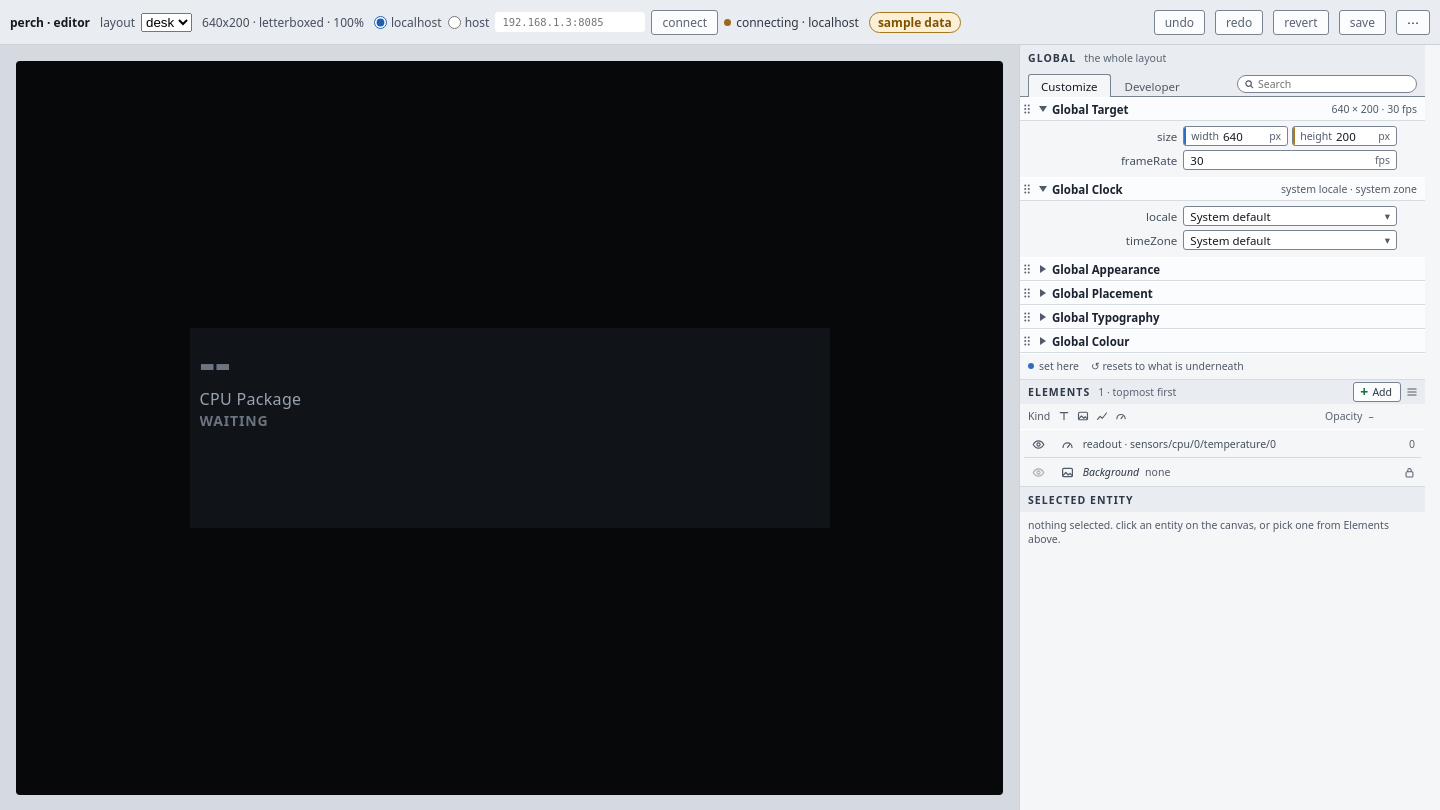
Scenario: the connection control › asks the relay for the typed host on Connect, then disables Connect once connected
Click the radio button labelled "host" at (454, 22), box [448,16,461,28]
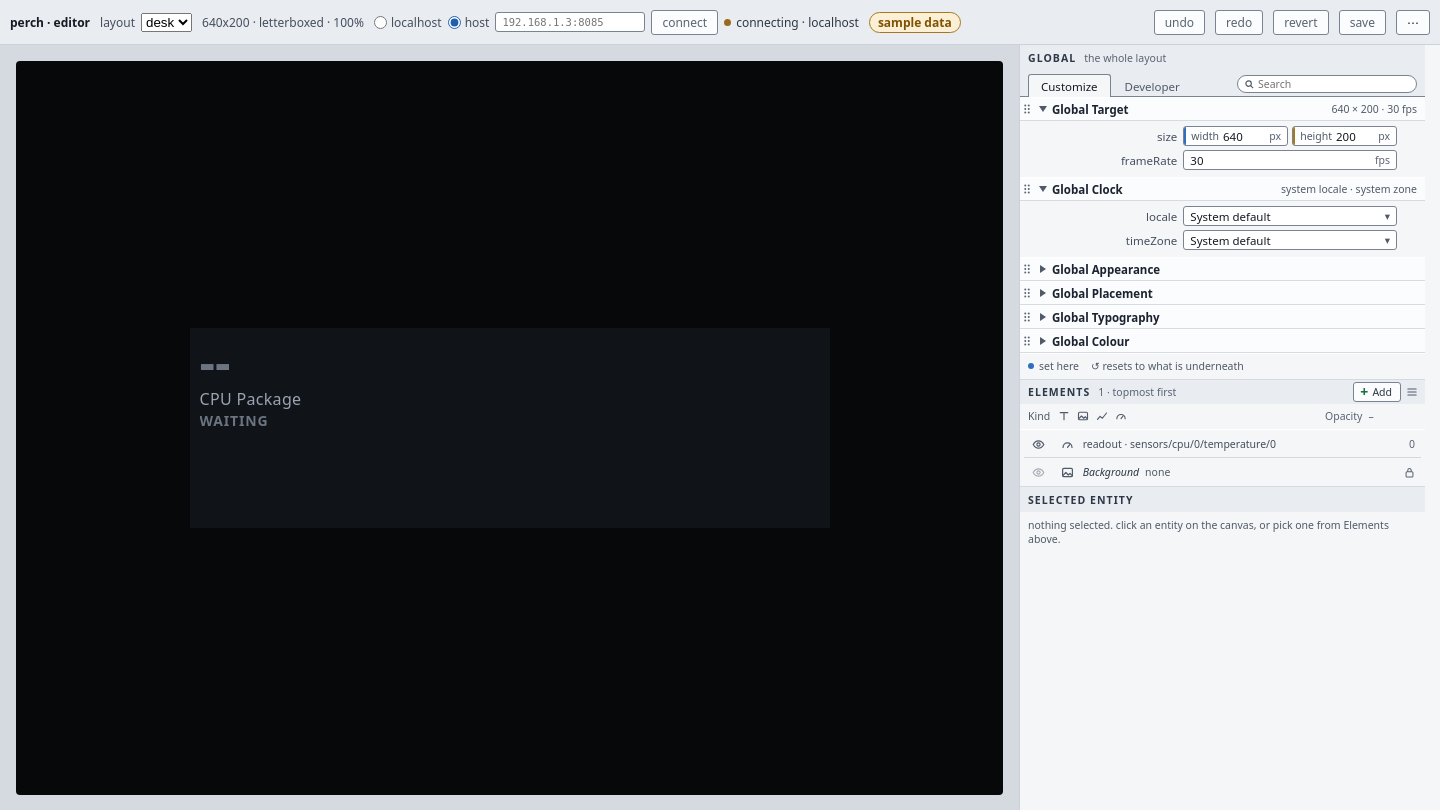
Type "192.168.1.3" into the field named "sensor host" at (570, 22), box [495,12,645,32]
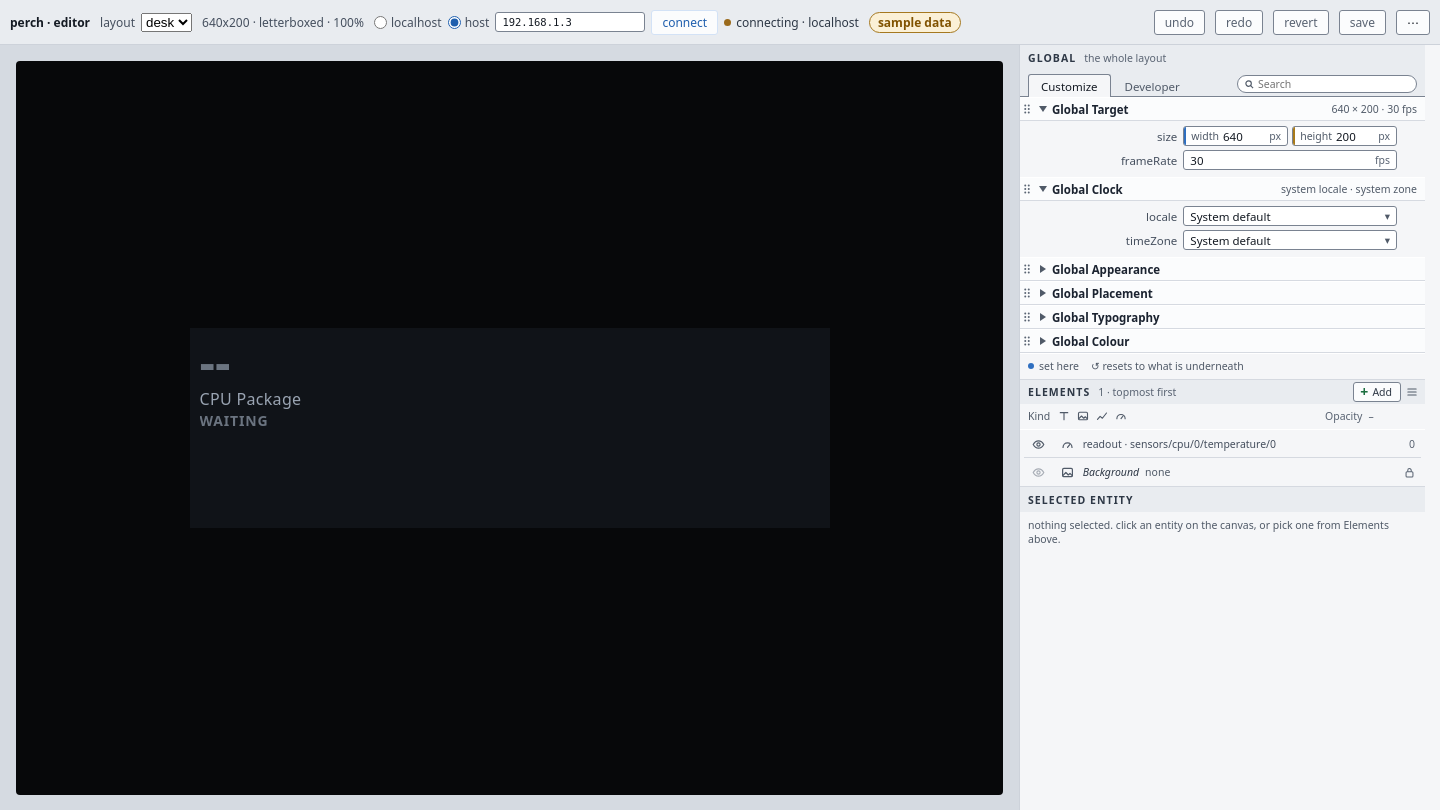
Click the button "connect" at (685, 22), box [651,10,718,34]
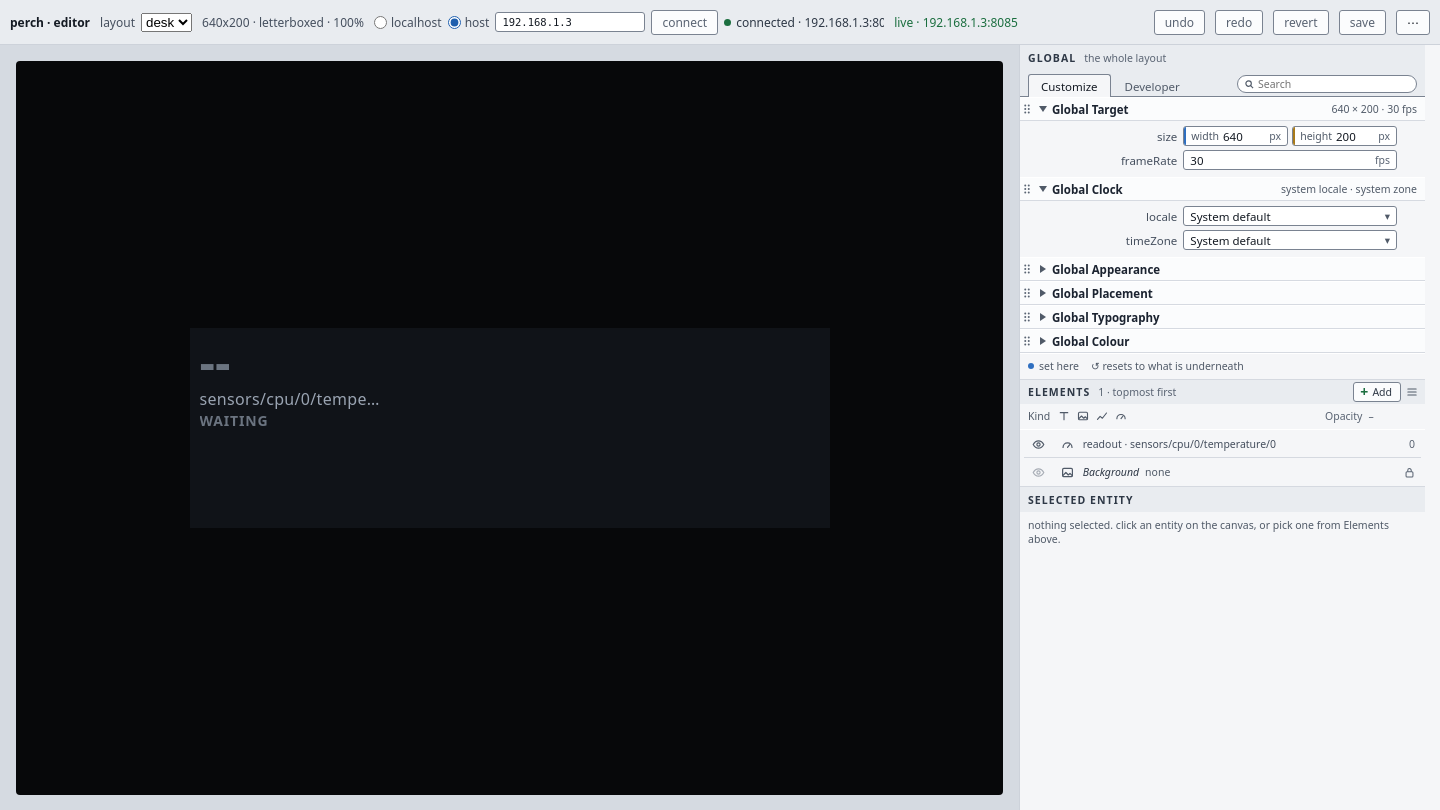
Now the message with test id "perch-editor-connection-status" shows "connected", box [736,14,900,30]
Now the message with test id "perch-editor-connection-status" shows "192.168.1.3:8085", box [736,14,900,30]
Now the button "connect" is disabled, box [651,10,718,34]
